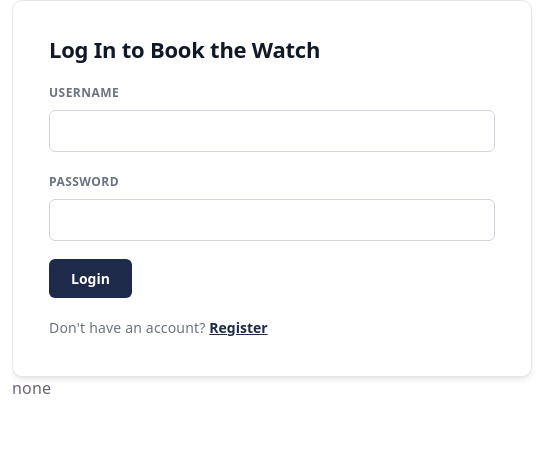
Test: LoginForm › shows the server error on wrong password / unknown username and does not set a token
Type "alice" into the field labelled "Username" at (272, 131), box [49,110,495,152]
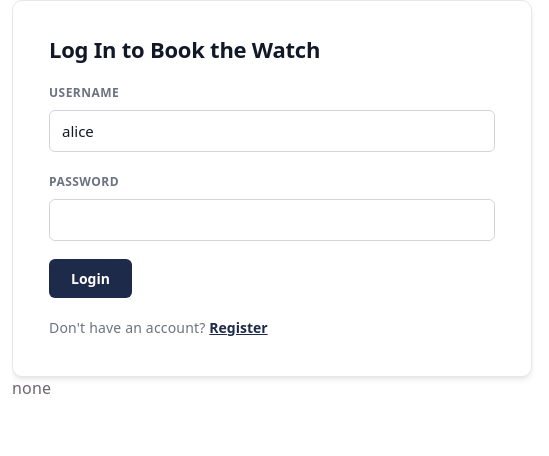
Type "wrong" into the password field labelled "Password" at (272, 220), box [49,199,495,241]
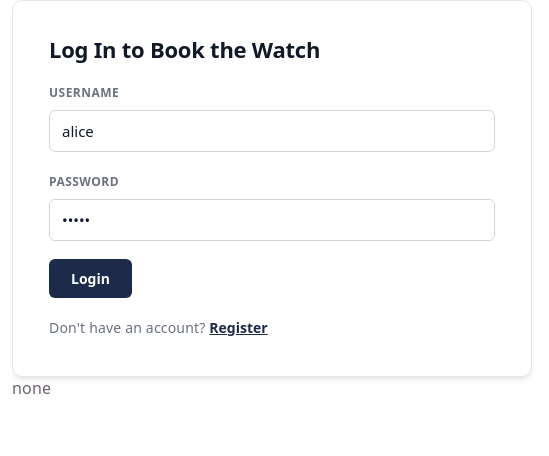
Click the button "Login" at (90, 279), box [49,259,132,298]
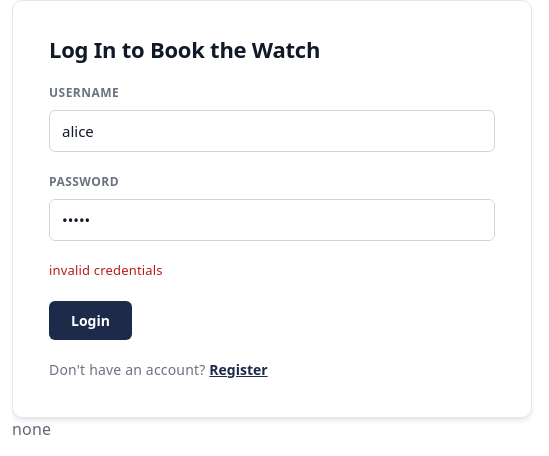
Check: the text with test id "current-token" reads "none", box [12,418,51,440]
Check: the text "invalid credentials" is shown, box [49,261,163,279]
